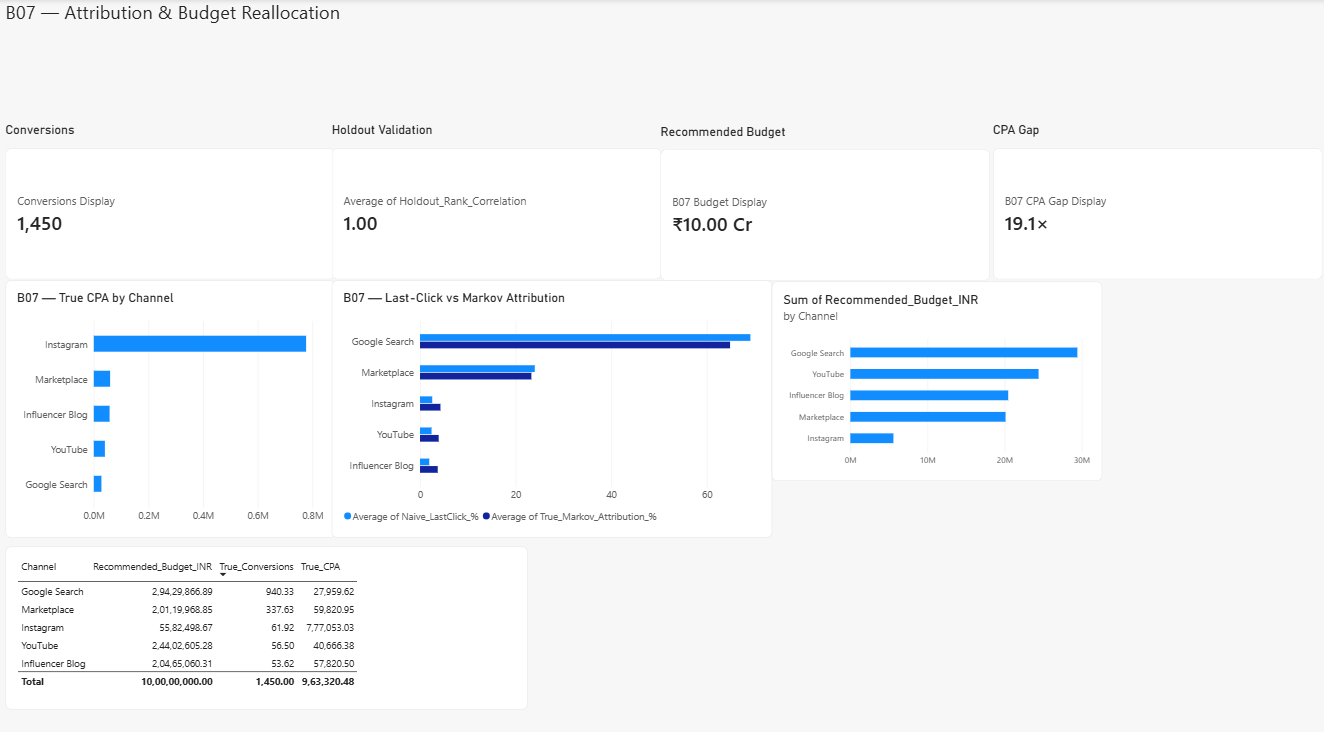

Layout of this report page (visuals, bound fields, positions):
{"tool":"powerbi","page":{"name":"B07 Case Study","canvas":[1920,1080],"ordinal":2},"visuals":[{"type":"textbox","box":[10,0,505.7,80],"z":0},{"type":"cardVisual","title":"Conversions","fields":{"Data":["portfolio_summary_by_brand.Conversions Display"]},"box":[10,180,477.1,227.1],"z":1000},{"type":"cardVisual","title":"Holdout Validation","fields":{"Data":["Avg(portfolio_summary_by_brand.Holdout_Rank_Correlation)"]},"box":[482.9,180,477,227],"z":2000},{"type":"cardVisual","title":"Recommended Budget","fields":{"Data":["BudgetAllocation.B07 Budget Display"]},"box":[960,181.4,477,227],"z":3000},{"type":"cardVisual","title":"CPA Gap","fields":{"Data":["BudgetAllocation.UWU_B07 CPA Gap Display"]},"box":[1440,180,477,227],"z":4000},{"type":"clusteredBarChart","title":"B07 — True CPA by Channel","fields":{"Category":["BudgetAllocation.Channel"],"Y":["Sum(BudgetAllocation.True_CPA)"]},"box":[10,407.5,477.5,372.5],"z":5000},{"type":"clusteredBarChart","title":"B07 — Last-Click vs Markov Attribution","fields":{"Category":["AttributionComparison.Channel"],"Y":["Avg(AttributionComparison.Naive_LastClick_%)","Avg(AttributionComparison.True_Markov_Attribution_%)"]},"box":[482.5,407.5,637.5,372.5],"z":6000},{"type":"clusteredBarChart","fields":{"Category":["BudgetAllocation.Channel"],"Y":["Sum(BudgetAllocation.Recommended_Budget_INR)"]},"box":[1120,408.8,478,289],"z":7000},{"type":"tableEx","fields":{"Values":["BudgetAllocation.Channel","Sum(BudgetAllocation.Recommended_Budget_INR)","Sum(BudgetAllocation.True_Conversions)","Sum(BudgetAllocation.True_CPA)"]},"box":[10,792,756,236],"z":8000}]}

Visuals, with their boxes in screenshot pixels (x1, y1, x2, y2), scaled from the page's 1920x1080 canvas onto the 1324x732 screenshot:
textbox: box=[7, 0, 356, 54]
"Conversions" cardVisual: box=[7, 122, 336, 276]
"Holdout Validation" cardVisual: box=[333, 122, 662, 276]
"Recommended Budget" cardVisual: box=[662, 123, 991, 277]
"CPA Gap" cardVisual: box=[993, 122, 1322, 276]
"B07 — True CPA by Channel" clusteredBarChart: box=[7, 276, 336, 529]
"B07 — Last-Click vs Markov Attribution" clusteredBarChart: box=[333, 276, 772, 529]
clusteredBarChart - BudgetAllocation.Channel x Sum(BudgetAllocation.Recommended_Budget_INR): box=[772, 277, 1102, 473]
tableEx - BudgetAllocation.Channel x Sum(BudgetAllocation.Recommended_Budget_INR): box=[7, 537, 528, 697]
